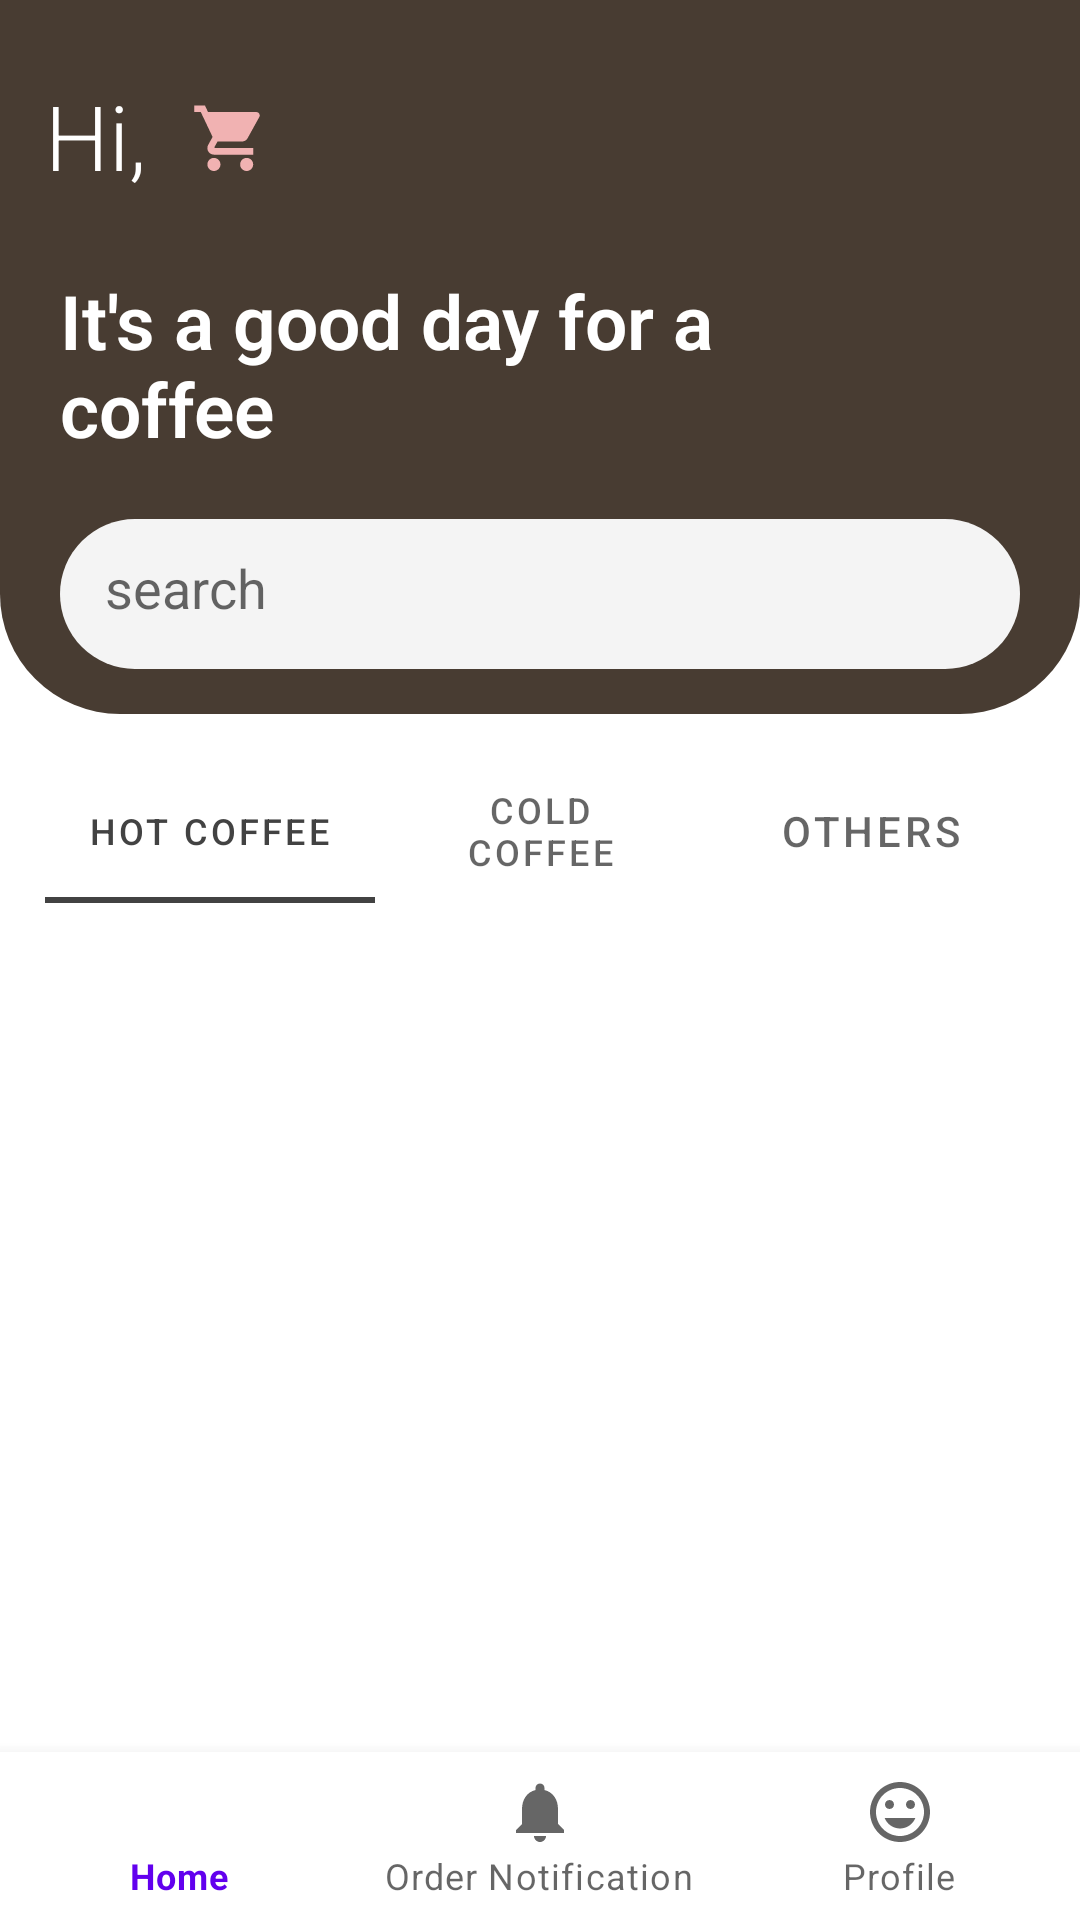

Where icons sit on this 1080w x 1920h app screen, as (x1=x1, y1=y1, x2=x2, y2=y2):
Shopping Cart Icon: (x1=194, y1=105, x2=260, y2=171)
